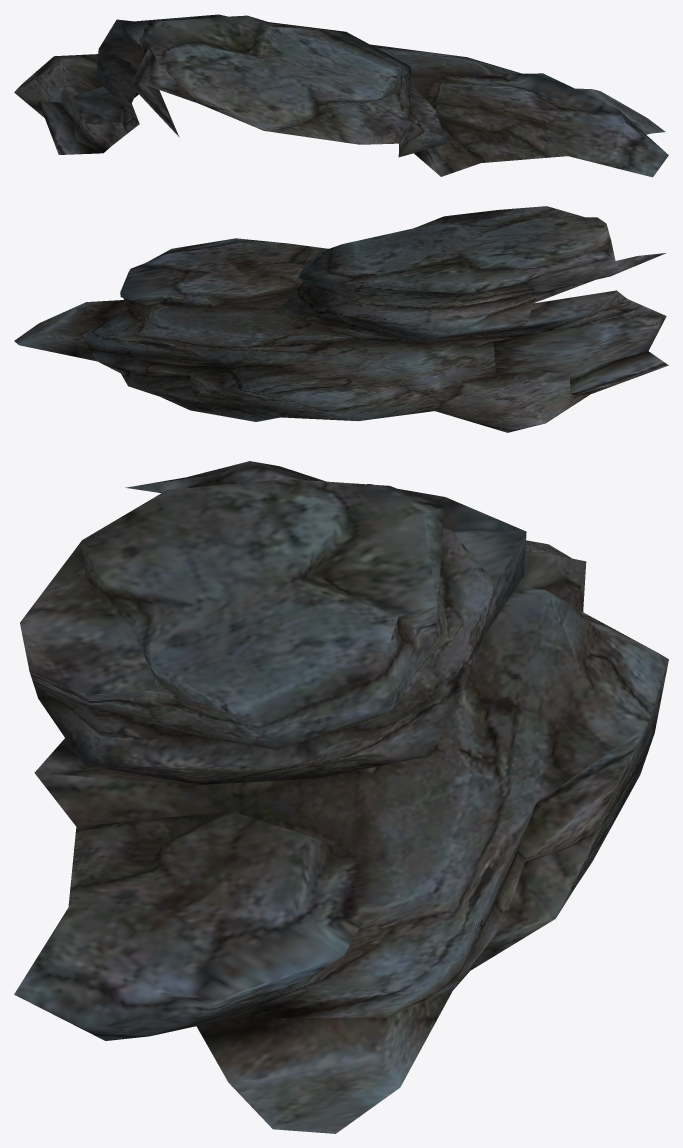
File: S_Rock_Yellow034_H19.FBX
3 views of the same model, one above another, from view 1: azimuth 30°, elevation 25°; view 2: azimuth 150°, elevation 25°; view 3: azimuth 270°, elevation 25° (orthographic). The views are drawn at different scales.
Visible parts, largest first — view 1: S_Rock_Yellow034_H19; view 2: S_Rock_Yellow034_H19; view 3: S_Rock_Yellow034_H19.
Boxes of the visible parts, box(x1,y1,x2,y2) form: S_Rock_Yellow034_H19: box(14, 14, 668, 177); S_Rock_Yellow034_H19: box(14, 206, 668, 432); S_Rock_Yellow034_H19: box(14, 461, 668, 1133).
Size of the model in its own units: 1572 by 978 by 472.
Materials: 1 (1 with a texture image).
